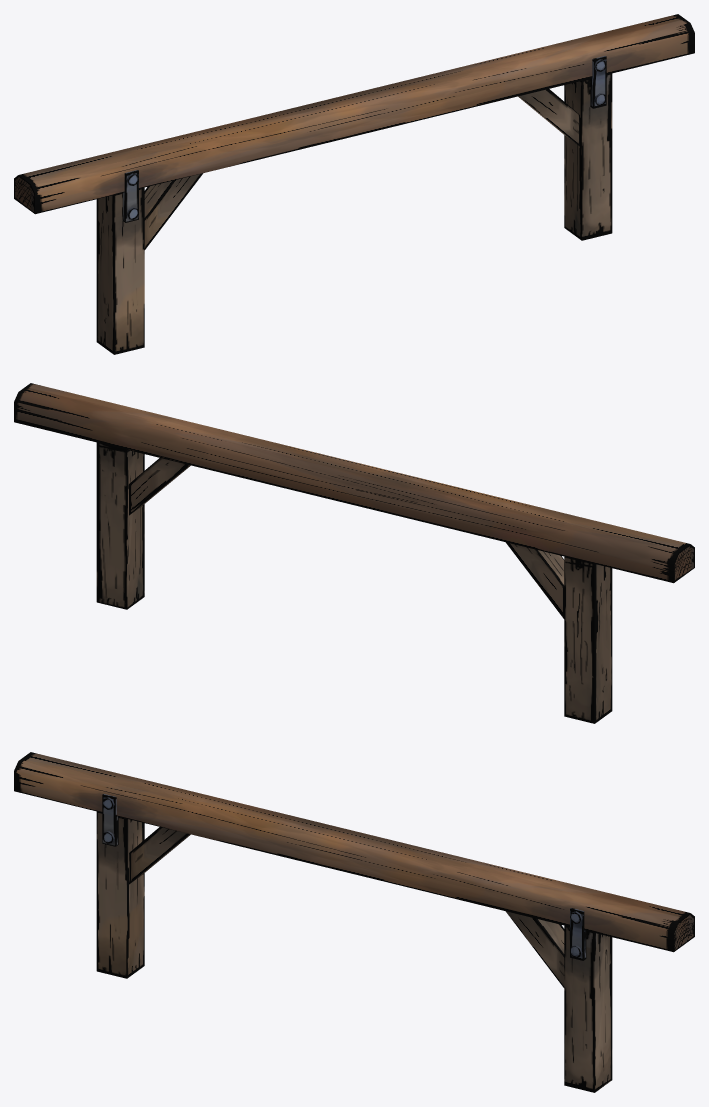
The model's file is hitching_post.fbx.
3 renders of one model, top to bottom at view 1: azimuth 30°, elevation 25°; view 2: azimuth 150°, elevation 25°; view 3: azimuth 330°, elevation 25°, orthographic.
Parts seen in each view (by area): view 1: hitching_post; view 2: hitching_post; view 3: hitching_post.
Part boxes in pixels (x1,y1,x2,y2): hitching_post: (14, 14, 694, 354); hitching_post: (14, 383, 694, 723); hitching_post: (14, 752, 694, 1092).
Bounding box in the file's own units: 1281 × 350 × 78.49.
